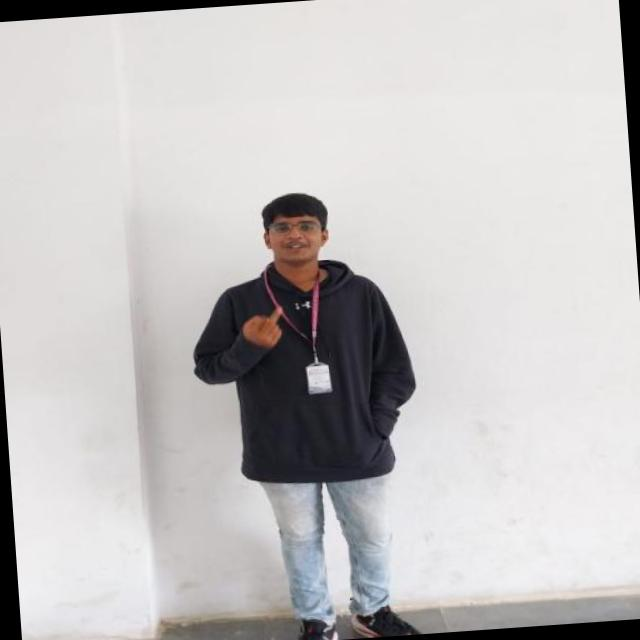id_card: (262, 259, 333, 398)
